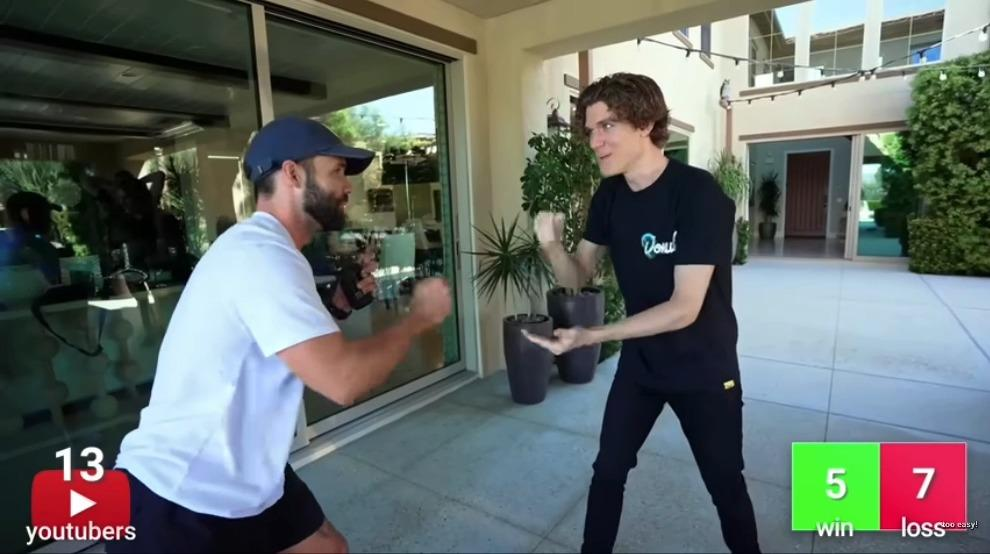Rock: (409, 276, 453, 325), (534, 207, 570, 249)
